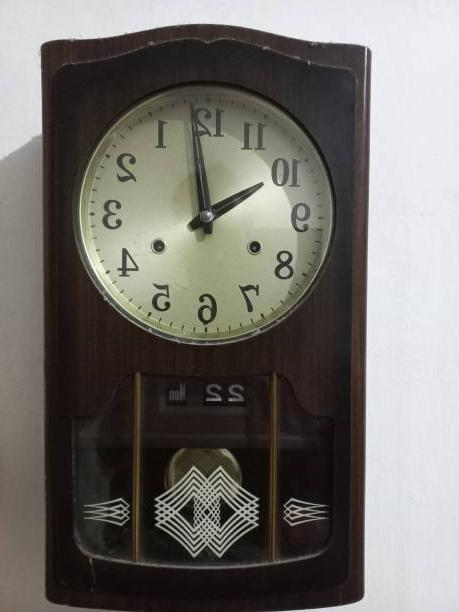clock: (80, 74, 338, 354)
